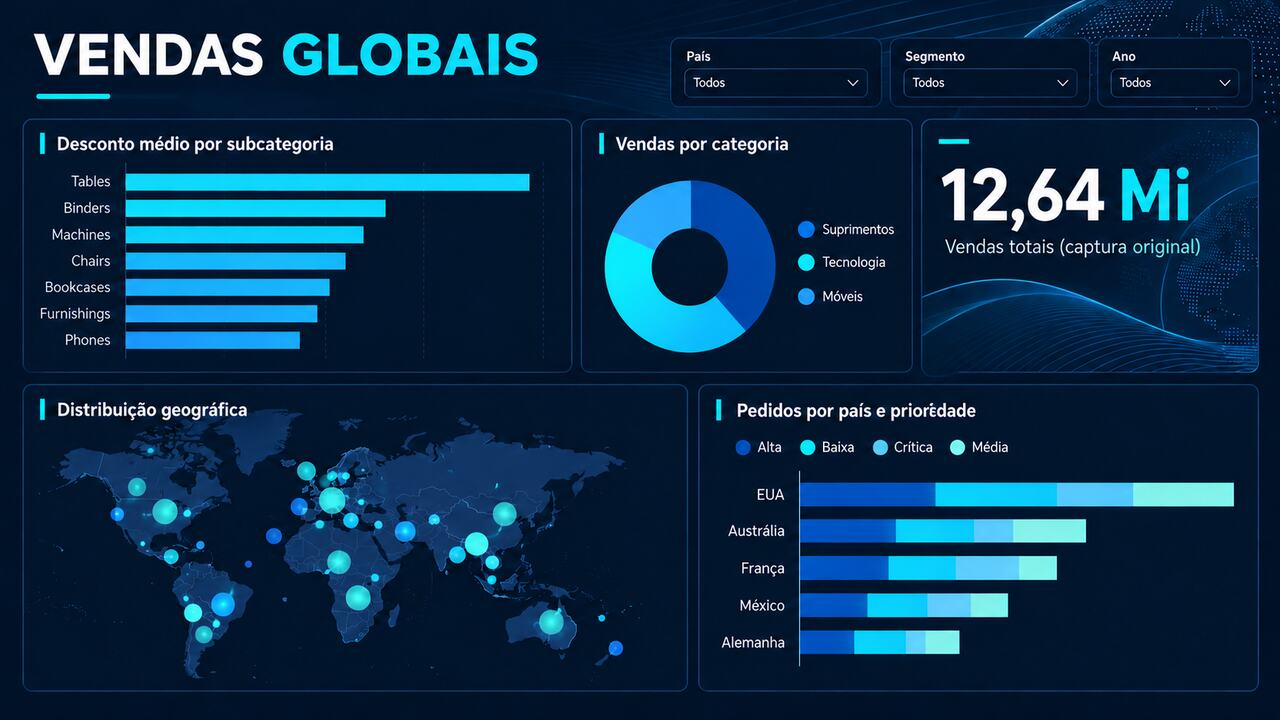

This screenshot's page, from the dashboard's own definition file:
{"tool":"powerbi","page":{"name":"Página 1","canvas":[1280,720],"ordinal":0},"visuals":[{"type":"card","fields":{"Values":["Sum(Vendas.Total_Vendas)"]},"box":[955,0,325.3,121.1],"z":0},{"type":"pieChart","title":"Total de vendas por Categoria","fields":{"Category":["Vendas.Categoria"],"Y":["CountNonNull(Vendas.ID_Pedido)"]},"box":[607.7,61.1,370.5,179.8],"z":1},{"type":"barChart","title":"Total de Pedido por Pais e Prioridade","fields":{"Category":["Vendas.Pais"],"Y":["CountNonNull(Vendas.ID_Pedido)"],"Series":["Vendas.Prioridade"]},"box":[607.7,265.4,672.6,330.2],"z":2},{"type":"clusteredBarChart","title":"Média de Desconto","fields":{"Category":["Vendas.SubCategoria"],"Y":["Avg(Vendas.Desconto)"]},"box":[0,61.1,607.7,239.7],"z":3},{"type":"map","title":"Média de Total Vendas por Pais","fields":{"Category":["Vendas.Pais"],"Size":["Avg(Vendas.Total_Vendas)"]},"box":[0,300.8,607.7,419.4],"z":4},{"type":"advancedSlicerVisual","fields":{"Values":["Vendas.Pais"]},"box":[978.3,121.1,302,214],"z":5},{"type":"advancedSlicerVisual","title":"Segmento","fields":{"Values":["Vendas.Segmento"]},"box":[607.7,595.5,347.3,124.7],"z":6},{"type":"tableEx","fields":{"Values":["Vendas.Data_Pedido.Variation.Hierarquia de datas.Ano"]},"box":[955,595.5,325.3,124.7],"z":7},{"type":"textbox","box":[0,0,978.3,61.1],"z":8}]}

Visuals, with their boxes in screenshot pixels (x1, y1, x2, y2), scaled from the page's 1280x720 canvas onto the 1280x720 screenshot:
card - Sum(Vendas.Total_Vendas): BBox(955, 0, 1279, 121)
"Total de vendas por Categoria" pieChart: BBox(608, 61, 978, 241)
"Total de Pedido por Pais e Prioridade" barChart: BBox(608, 265, 1279, 596)
"Média de Desconto" clusteredBarChart: BBox(0, 61, 608, 301)
"Média de Total Vendas por Pais" map: BBox(0, 301, 608, 719)
advancedSlicerVisual - Vendas.Pais: BBox(978, 121, 1279, 335)
"Segmento" advancedSlicerVisual: BBox(608, 596, 955, 719)
tableEx - Vendas.Data_Pedido.Variation.Hierarquia de datas.Ano: BBox(955, 596, 1279, 719)
textbox: BBox(0, 0, 978, 61)
